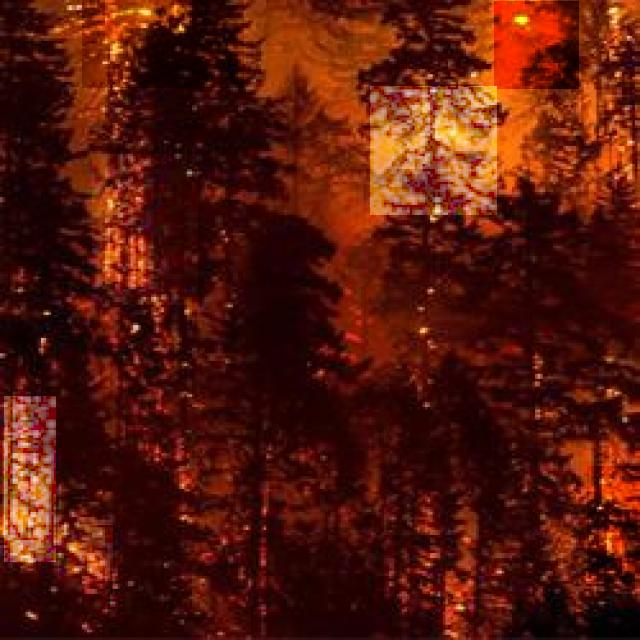Fire: (370, 86, 497, 215), (92, 154, 198, 305), (82, 0, 244, 88), (4, 396, 56, 562), (432, 547, 520, 640), (494, 1, 579, 90), (587, 467, 640, 582), (58, 524, 113, 581)
